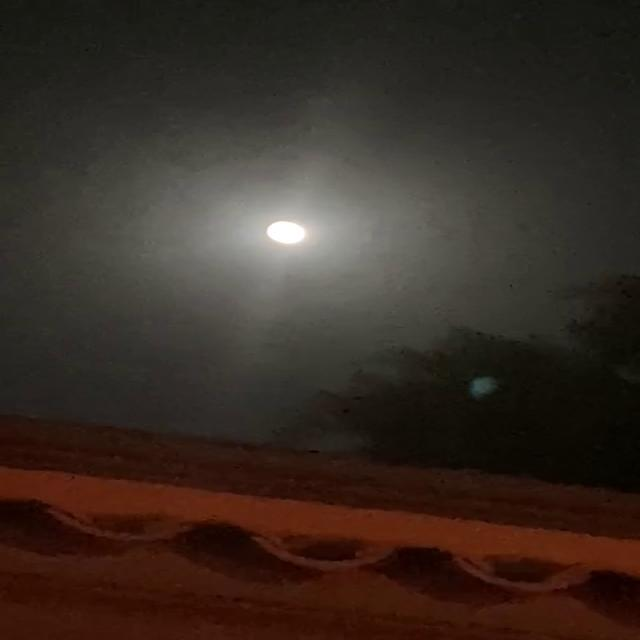moon: (257, 210, 316, 250)
